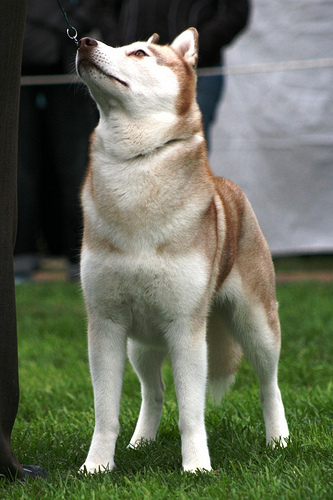dog: (73, 25, 292, 472)
